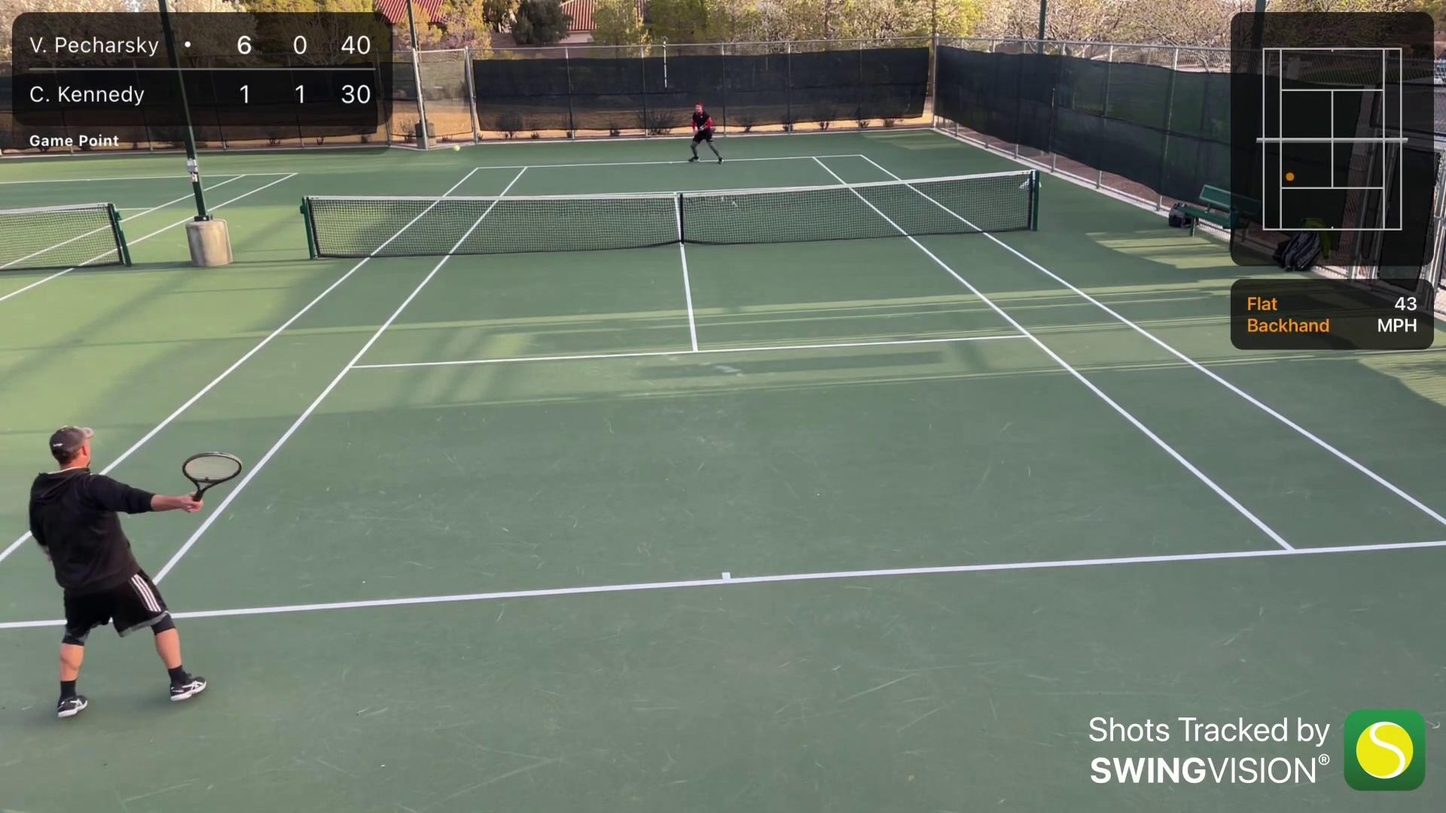ball: (447, 144, 463, 152)
